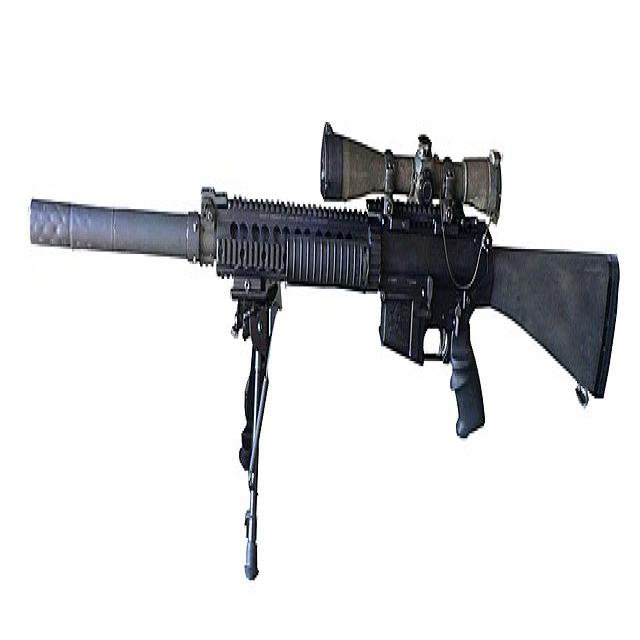Rifle: (29, 127, 622, 438)
